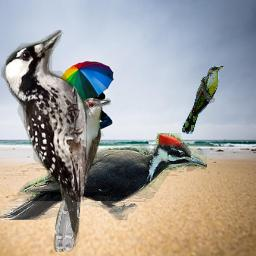Cuckoo: (53, 96, 111, 252), (182, 66, 224, 134)
Woodpecker: (0, 133, 207, 220), (1, 30, 87, 202)
